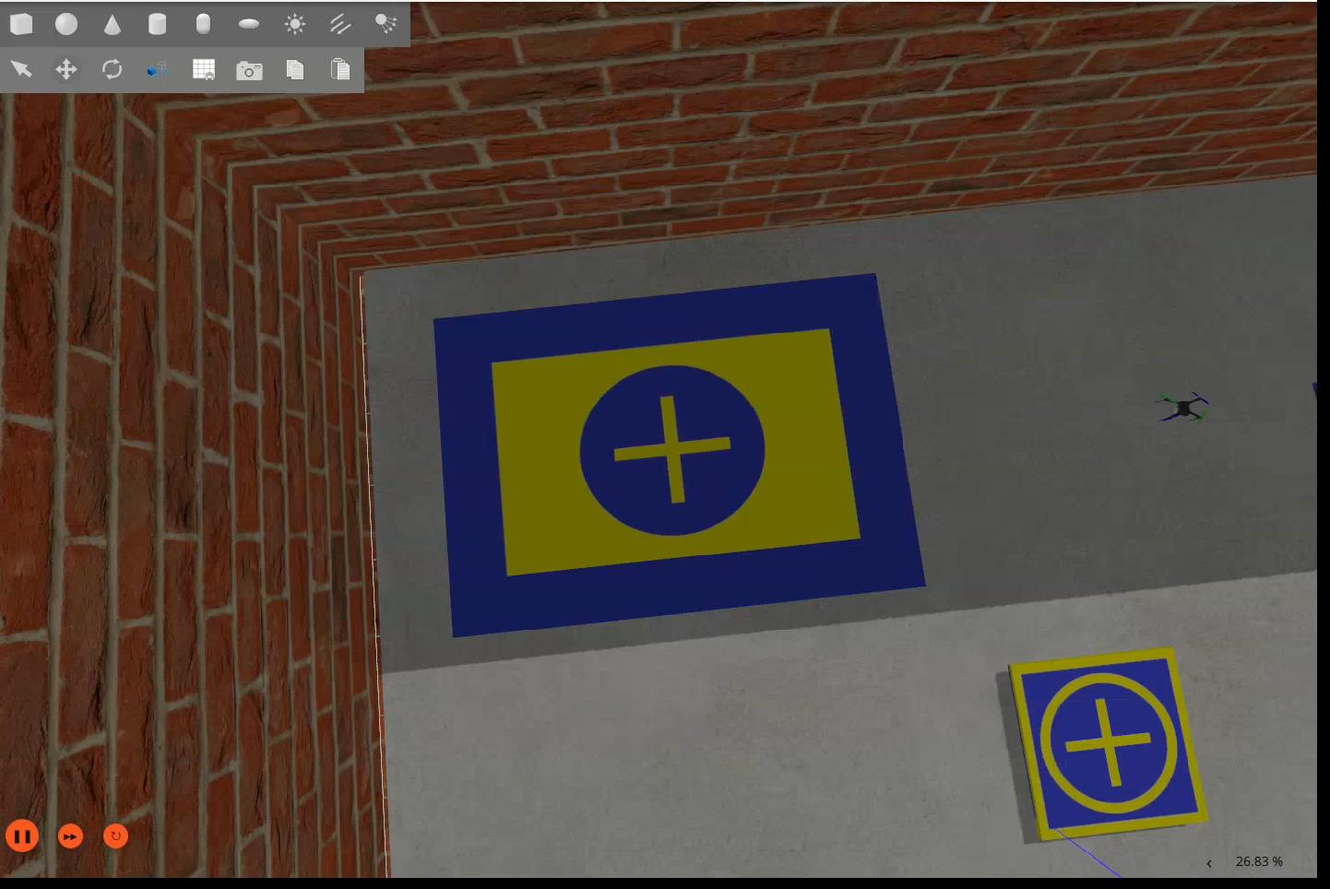large_base: (433, 276, 926, 641)
small_base: (1008, 648, 1215, 842)
